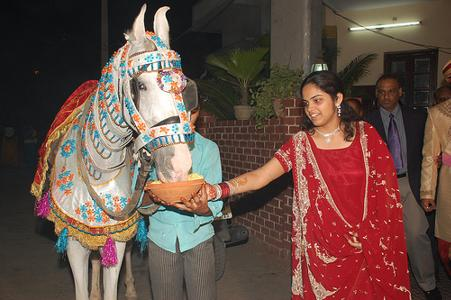person: (195, 73, 413, 300)
